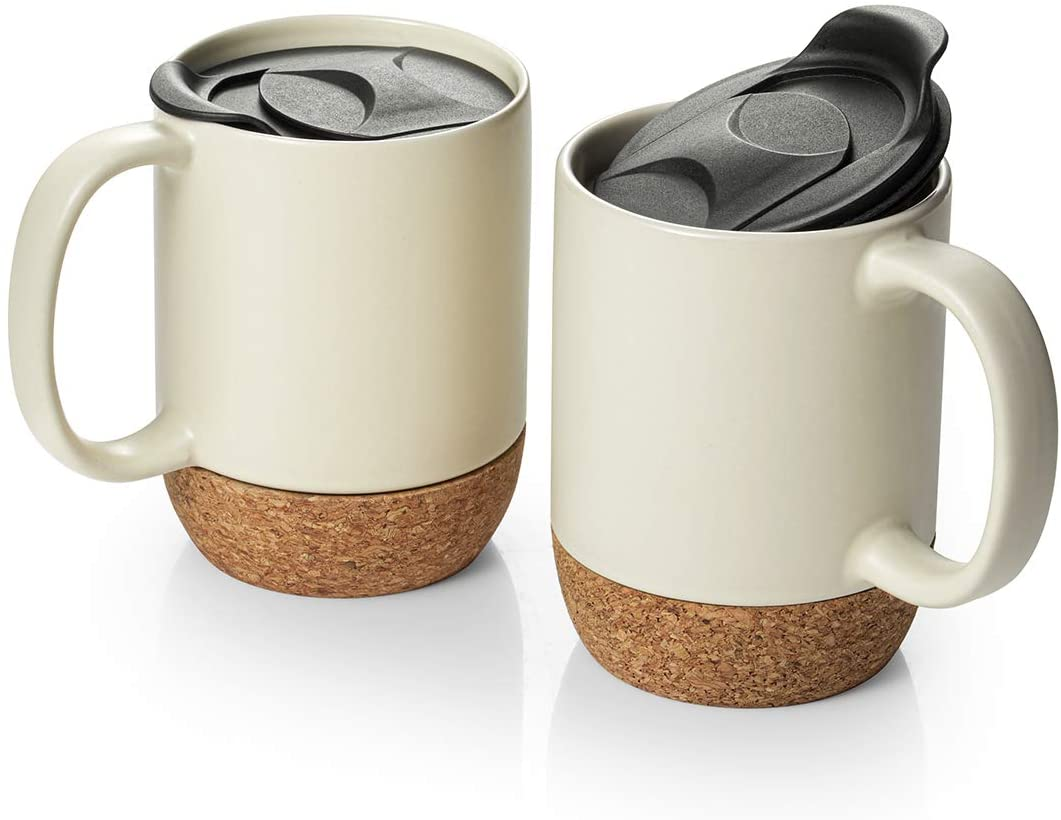gelas: (549, 99, 1059, 724), (21, 9, 541, 618)
